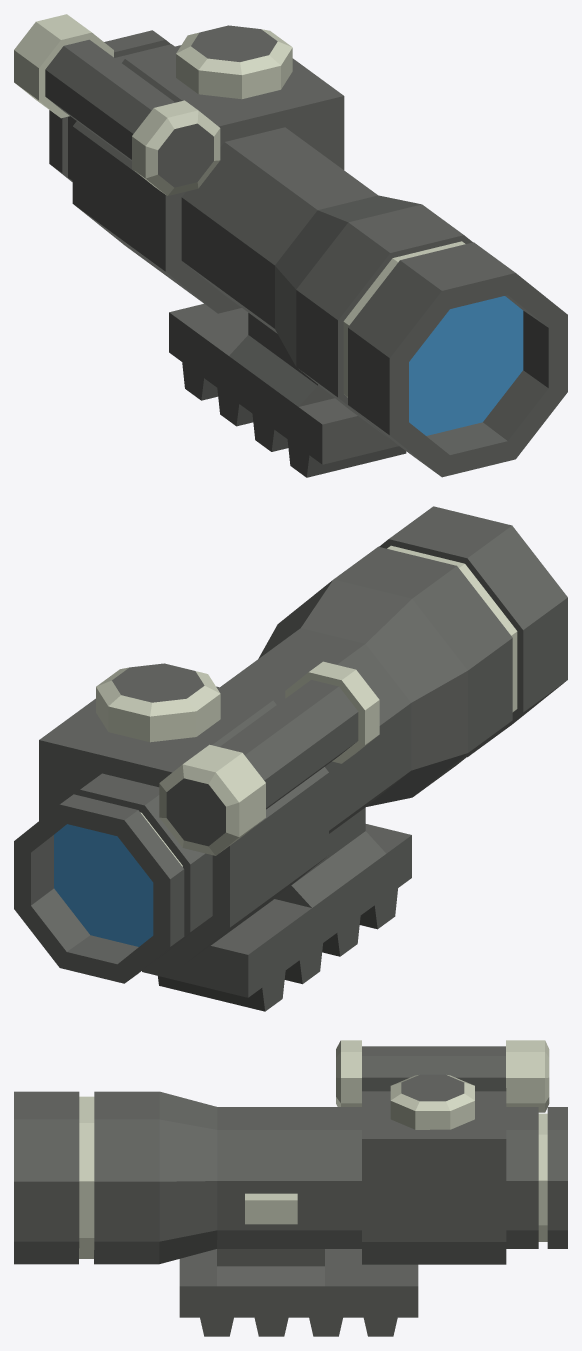
Rendered from Aco scope.fbx.
The picture shows the model from 3 angles, top to bottom: view 1: azimuth 30°, elevation 25°; view 2: azimuth 150°, elevation 25°; view 3: azimuth 270°, elevation 25°; orthographic projection. The views are drawn at different scales.
Visible parts, largest first — view 1: Aco scope, Aco scope.001; view 2: Aco scope, Aco scope.001; view 3: Aco scope.
Boxes of the visible parts, bbox=[...] form: Aco scope: bbox=[14, 14, 567, 477]; Aco scope.001: bbox=[409, 296, 523, 435]; Aco scope: bbox=[14, 506, 567, 1011]; Aco scope.001: bbox=[54, 824, 153, 946]; Aco scope: bbox=[14, 1040, 567, 1336].
Size of the model in its own units: 29.51 by 40.63 by 85.23.
